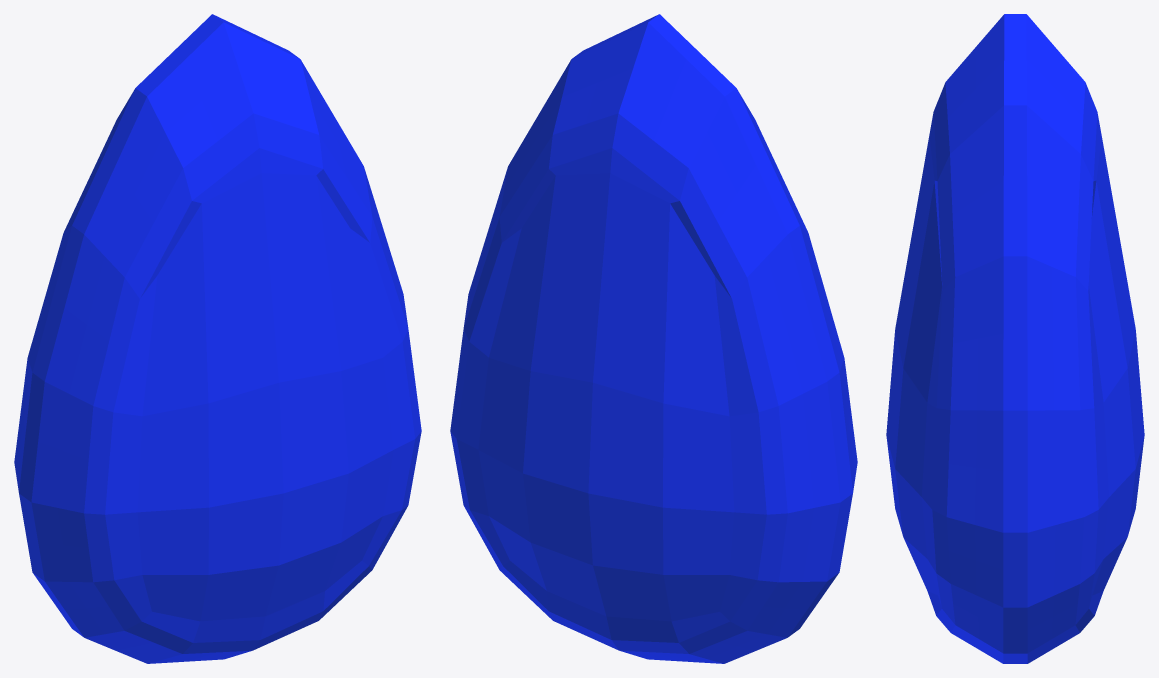
Rendered from sapphire.glb.
3 views of the same model, side by side, from view 1: azimuth 30°, elevation 25°; view 2: azimuth 150°, elevation 25°; view 3: azimuth 270°, elevation 25° (orthographic).
Parts seen in each view (by area): view 1: Cube; view 2: Cube; view 3: Cube.
Boxes of the visible parts, left/top/right/bottom form: Cube: left=14, top=14, right=421, bottom=663; Cube: left=450, top=14, right=857, bottom=663; Cube: left=886, top=14, right=1144, bottom=663.
Size of the model in its own units: 0.0918 by 0.1448 by 0.0541.
